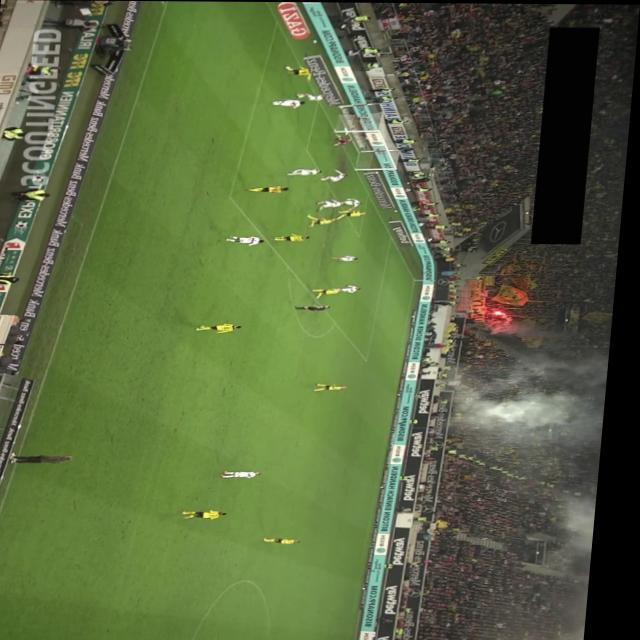goalkeeper: (333, 135, 356, 147)
player: (189, 509, 236, 520), (201, 322, 248, 333), (228, 235, 269, 246), (309, 213, 341, 227), (322, 168, 351, 182), (247, 185, 293, 193), (272, 99, 307, 109), (316, 287, 347, 298), (318, 199, 346, 211), (277, 232, 314, 241), (229, 471, 269, 479), (319, 383, 354, 392), (272, 536, 311, 544), (285, 66, 314, 76), (342, 197, 366, 209), (288, 168, 326, 175), (296, 92, 329, 100), (338, 284, 366, 292), (341, 209, 370, 216), (336, 255, 362, 261)
referee: (298, 305, 335, 311)
